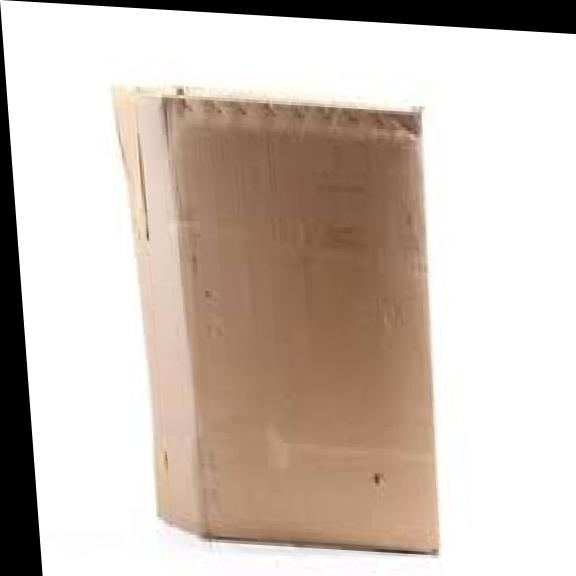Kertas: (113, 87, 440, 552)
